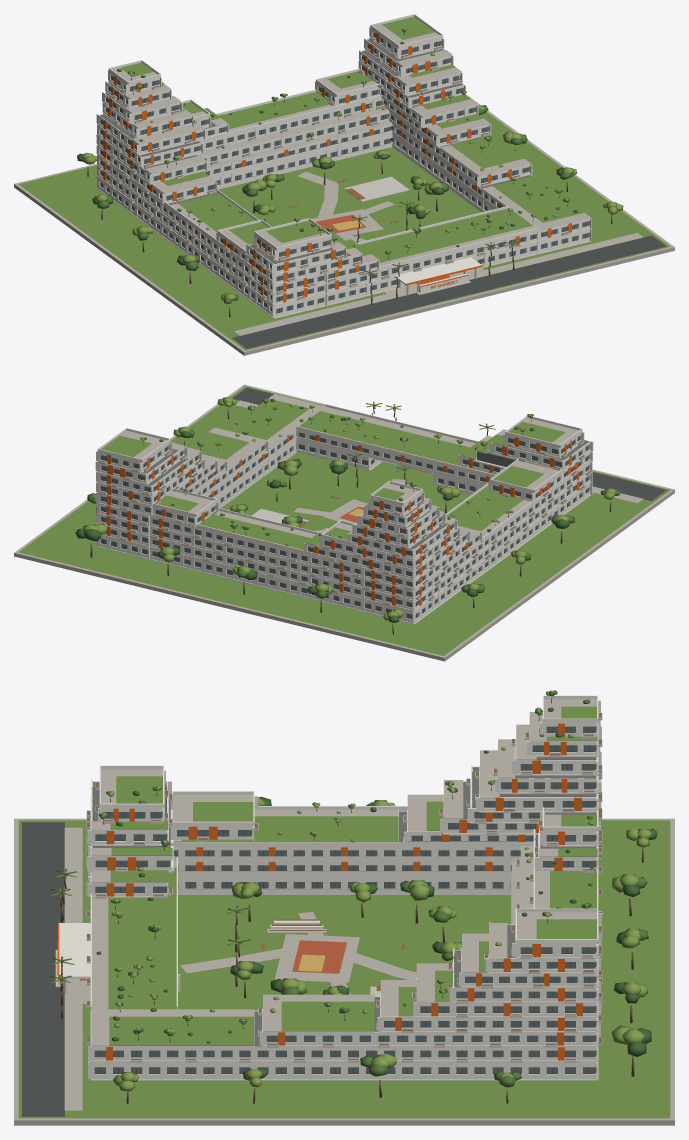
File: fpt-campus-low.glb
The picture shows the model from 3 angles, top to bottom: view 1: azimuth 30°, elevation 25°; view 2: azimuth 150°, elevation 25°; view 3: azimuth 270°, elevation 25°; orthographic projection. The views are drawn at different scales.
Visible parts, largest first — view 1: FPT_FACADES_concrete_off_white, FPT_SITE_BOUNDARY, FPT_ROOFTOP_GARDENS_grass_green, FPT_WINDOWS_glass_neutral, FPT_ROOFTOP_GARDENS_pavement, FPT_COURTYARD_grass_green, FPT_ROOFTOP_GARDENS_concrete_white, FPT_TERRAIN_asphalt, FPT_TERRAIN_concrete_weathered, FPT_FLOOR_SLABS_concrete_white, FPT_PATHWAYS_pavement, FPT_FACADES_corridor_shade (+13 smaller); view 2: FPT_FACADES_concrete_off_white, FPT_SITE_BOUNDARY, FPT_ROOFTOP_GARDENS_grass_green, FPT_WINDOWS_glass_neutral, FPT_COURTYARD_grass_green, FPT_ROOFTOP_GARDENS_concrete_white, FPT_ROOFTOP_GARDENS_pavement, FPT_FLOOR_SLABS_concrete_white, FPT_TERRAIN_concrete_weathered, FPT_WINDOWS_window_frame, FPT_FACADES_corridor_shade, FPT_VEGETATION_foliage_light (+11 smaller); view 3: FPT_SITE_BOUNDARY, FPT_FACADES_concrete_off_white, FPT_ROOFTOP_GARDENS_grass_green, FPT_COURTYARD_grass_green, FPT_ROOFTOP_GARDENS_pavement, FPT_WINDOWS_glass_neutral, FPT_TERRAIN_asphalt, FPT_TERRAIN_concrete_weathered, FPT_ROOFTOP_GARDENS_concrete_white, FPT_FLOOR_SLABS_concrete_white, FPT_PATHWAYS_pavement, FPT_FACADES_corridor_shade (+13 smaller).
Boxes of the visible parts, x1=… form: FPT_FACADES_concrete_off_white: x1=96, y1=27, x2=591, y2=317; FPT_SITE_BOUNDARY: x1=18, y1=112, x2=669, y2=350; FPT_ROOFTOP_GARDENS_grass_green: x1=120, y1=16, x2=584, y2=262; FPT_WINDOWS_glass_neutral: x1=100, y1=33, x2=587, y2=313; FPT_ROOFTOP_GARDENS_pavement: x1=112, y1=24, x2=590, y2=266; FPT_COURTYARD_grass_green: x1=218, y1=147, x2=480, y2=240; FPT_ROOFTOP_GARDENS_concrete_white: x1=97, y1=14, x2=590, y2=282; FPT_TERRAIN_asphalt: x1=232, y1=235, x2=666, y2=348; FPT_TERRAIN_concrete_weathered: x1=14, y1=94, x2=674, y2=355; FPT_FLOOR_SLABS_concrete_white: x1=97, y1=41, x2=590, y2=318; FPT_PATHWAYS_pavement: x1=234, y1=171, x2=643, y2=335; FPT_FACADES_corridor_shade: x1=100, y1=32, x2=588, y2=311; FPT_FACADES_concrete_off_white: x1=95, y1=394, x2=593, y2=623; FPT_SITE_BOUNDARY: x1=19, y1=386, x2=669, y2=655; FPT_ROOFTOP_GARDENS_grass_green: x1=101, y1=398, x2=565, y2=549; FPT_WINDOWS_glass_neutral: x1=101, y1=432, x2=588, y2=618; FPT_COURTYARD_grass_green: x1=221, y1=453, x2=470, y2=531; FPT_ROOFTOP_GARDENS_concrete_white: x1=97, y1=404, x2=590, y2=589; FPT_ROOFTOP_GARDENS_pavement: x1=120, y1=394, x2=578, y2=538; FPT_FLOOR_SLABS_concrete_white: x1=97, y1=439, x2=591, y2=624; FPT_TERRAIN_concrete_weathered: x1=14, y1=384, x2=674, y2=661; FPT_WINDOWS_window_frame: x1=101, y1=433, x2=588, y2=618; FPT_FACADES_corridor_shade: x1=100, y1=432, x2=588, y2=617; FPT_VEGETATION_foliage_light: x1=83, y1=397, x2=616, y2=620; FPT_SITE_BOUNDARY: x1=18, y1=820, x2=670, y2=1118; FPT_FACADES_concrete_off_white: x1=87, y1=700, x2=601, y2=1080; FPT_ROOFTOP_GARDENS_grass_green: x1=108, y1=706, x2=597, y2=1045; FPT_COURTYARD_grass_green: x1=178, y1=895, x2=510, y2=1010; FPT_ROOFTOP_GARDENS_pavement: x1=91, y1=699, x2=596, y2=1045; FPT_WINDOWS_glass_neutral: x1=93, y1=726, x2=595, y2=1073; FPT_TERRAIN_asphalt: x1=22, y1=822, x2=64, y2=1116; FPT_TERRAIN_concrete_weathered: x1=14, y1=818, x2=674, y2=1125; FPT_ROOFTOP_GARDENS_concrete_white: x1=90, y1=695, x2=598, y2=1046; FPT_FLOOR_SLABS_concrete_white: x1=90, y1=723, x2=598, y2=1080; FPT_PATHWAYS_pavement: x1=64, y1=827, x2=416, y2=1110; FPT_FACADES_corridor_shade: x1=93, y1=726, x2=595, y2=1073.
Size of the model in its own units: 158 by 45.14 by 146.
